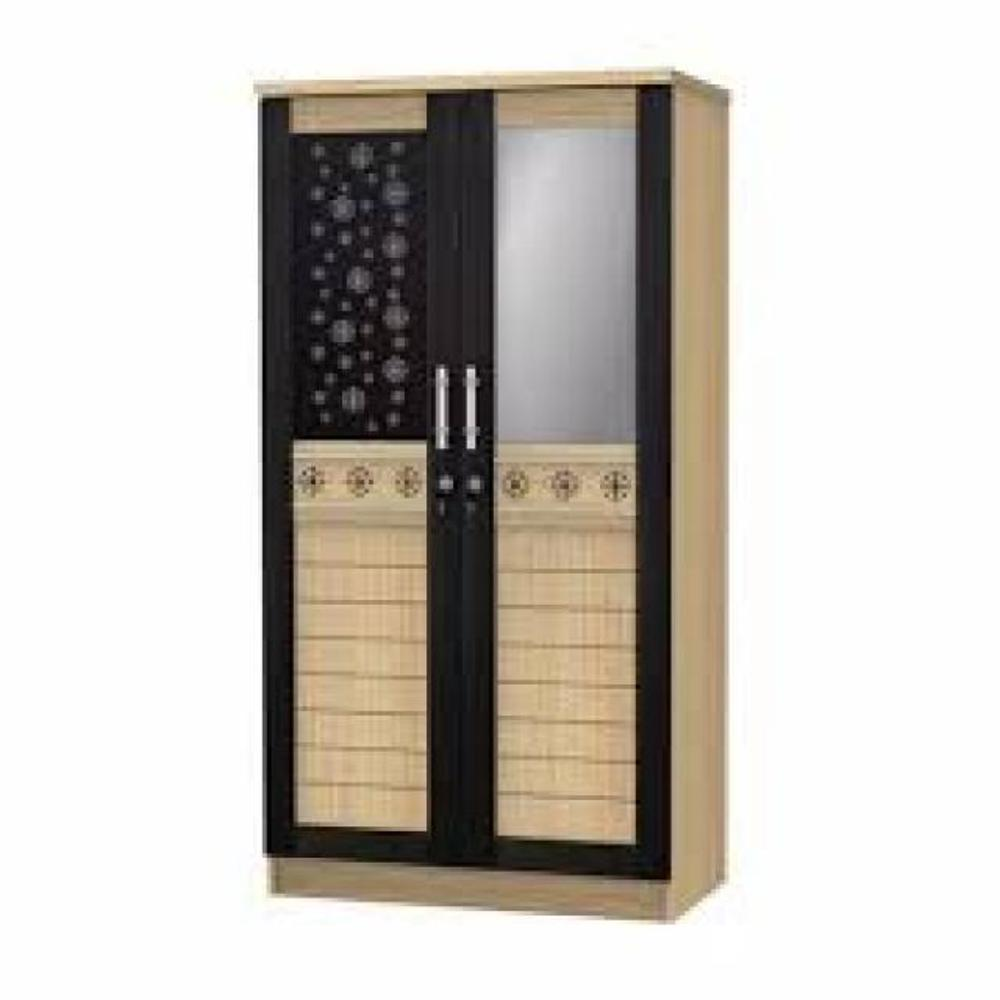cabinet: (257, 65, 738, 941)
